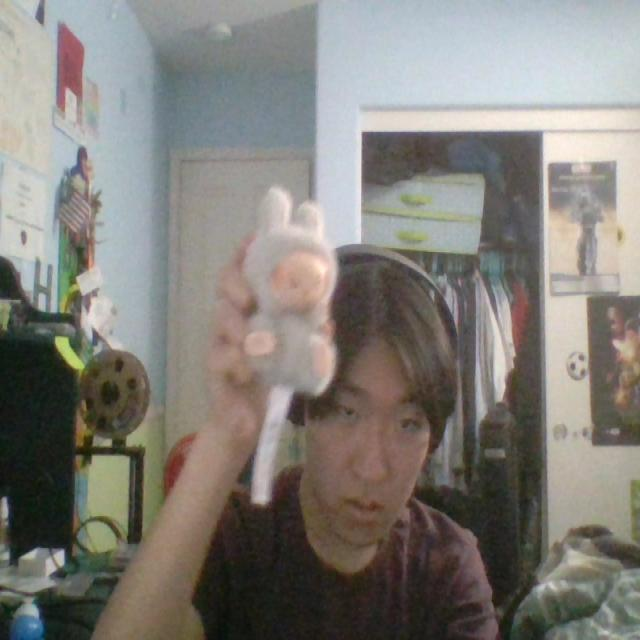labubu: (242, 187, 337, 395)
